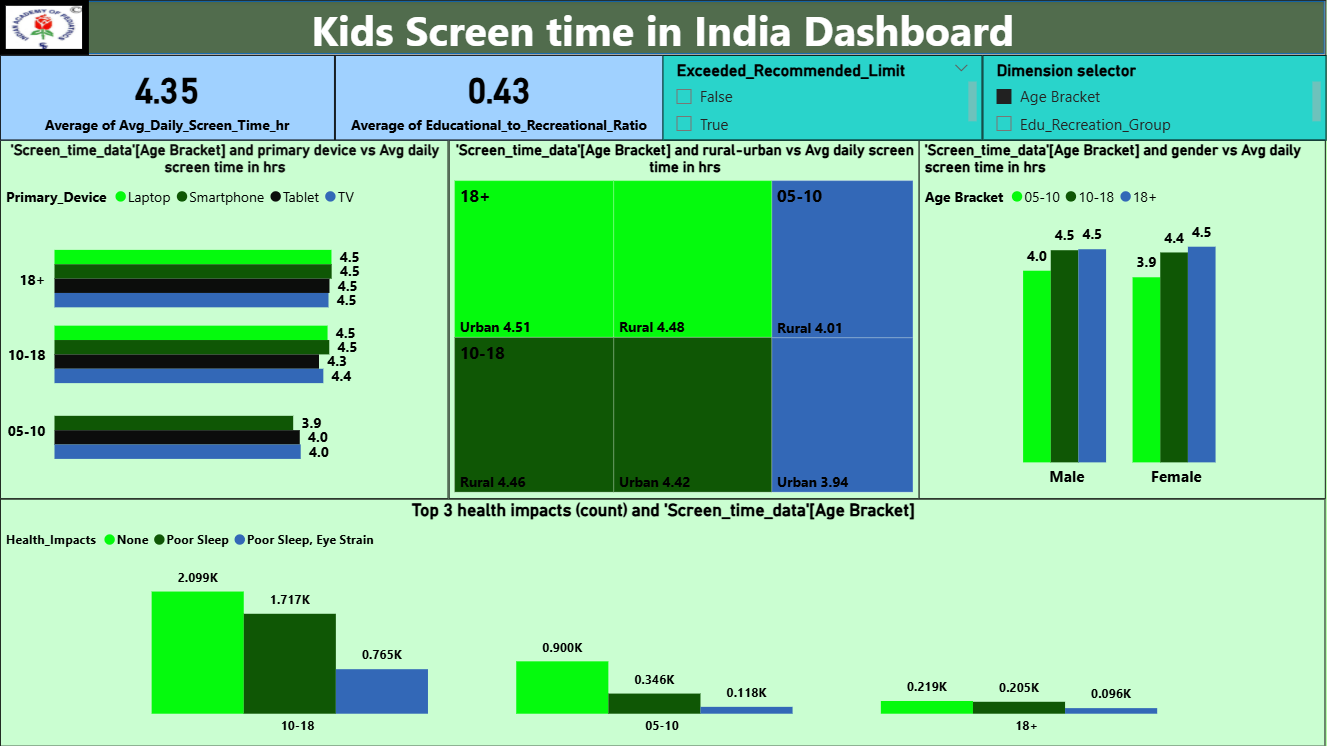

What the dashboard file says about the page in this screenshot:
{"tool":"powerbi","page":{"name":"Dashboard","canvas":[1280,720],"ordinal":0},"visuals":[{"type":"shape","box":[0,0,1279.7,53.4],"z":0},{"type":"treemap","fields":{"Group":["Screen_time_data.Age Bracket"],"Values":["Avg(Indian_Kids_Screen_Time.Avg_Daily_Screen_Time_hr)"],"Details":["Indian_Kids_Screen_Time.Urban_or_Rural"]},"box":[432.8,135.6,454.5,346.3],"z":1000},{"type":"clusteredColumnChart","fields":{"Series":["Screen_time_data.Age Bracket"],"Category":["Indian_Kids_Screen_Time.Gender"],"Y":["Avg(Indian_Kids_Screen_Time.Avg_Daily_Screen_Time_hr)"]},"box":[887.3,135.6,392.4,346.3],"z":2000},{"type":"clusteredBarChart","fields":{"Category":["Screen_time_data.Age Bracket"],"Series":["Indian_Kids_Screen_Time.Primary_Device"],"Y":["Avg(Indian_Kids_Screen_Time.Avg_Daily_Screen_Time_hr)"]},"box":[0,135.6,432.8,346.3],"z":3000},{"type":"clusteredColumnChart","fields":{"Category":["Screen_time_data.Age Bracket"],"Series":["Indian_Kids_Screen_Time.Health_Impacts"],"Y":["CountNonNull(Indian_Kids_Screen_Time.Health_Impacts)"]},"box":[0,481.4,1278.8,238.9],"z":4000},{"type":"slicer","fields":{"Values":["Dimension selector.Dimension selector"]},"box":[947.9,53.4,331.8,82.2],"z":5000},{"type":"card","fields":{"Values":["Avg(Screen_time_data.Avg_Daily_Screen_Time_hr)"]},"box":[0,53.4,323.2,82.2],"z":6000},{"type":"card","fields":{"Values":["Avg(Screen_time_data.Educational_to_Recreational_Ratio)"]},"box":[323.2,53.4,317.4,82.2],"z":7000},{"type":"slicer","fields":{"Values":["Screen_time_data.Exceeded_Recommended_Limit"]},"box":[639.1,53.4,308.8,82.2],"z":8000},{"type":"image","box":[0,0,85.7,53.1],"z":8001}]}

Visuals, with their boxes in screenshot pixels (x1, y1, x2, y2), scaled from the page's 1280x720 canvas onto the 1327x746 screenshot:
shape: (0, 0, 1326, 55)
treemap - Screen_time_data.Age Bracket x Avg(Indian_Kids_Screen_Time.Avg_Daily_Screen_Time_hr): (449, 140, 920, 499)
clusteredColumnChart - Screen_time_data.Age Bracket x Indian_Kids_Screen_Time.Gender: (920, 140, 1326, 499)
clusteredBarChart - Screen_time_data.Age Bracket x Indian_Kids_Screen_Time.Primary_Device: (0, 140, 449, 499)
clusteredColumnChart - Screen_time_data.Age Bracket x Indian_Kids_Screen_Time.Health_Impacts: (0, 499, 1326, 745)
slicer - Dimension selector.Dimension selector: (983, 55, 1326, 140)
card - Avg(Screen_time_data.Avg_Daily_Screen_Time_hr): (0, 55, 335, 140)
card - Avg(Screen_time_data.Educational_to_Recreational_Ratio): (335, 55, 664, 140)
slicer - Screen_time_data.Exceeded_Recommended_Limit: (663, 55, 983, 140)
image: (0, 0, 89, 55)
